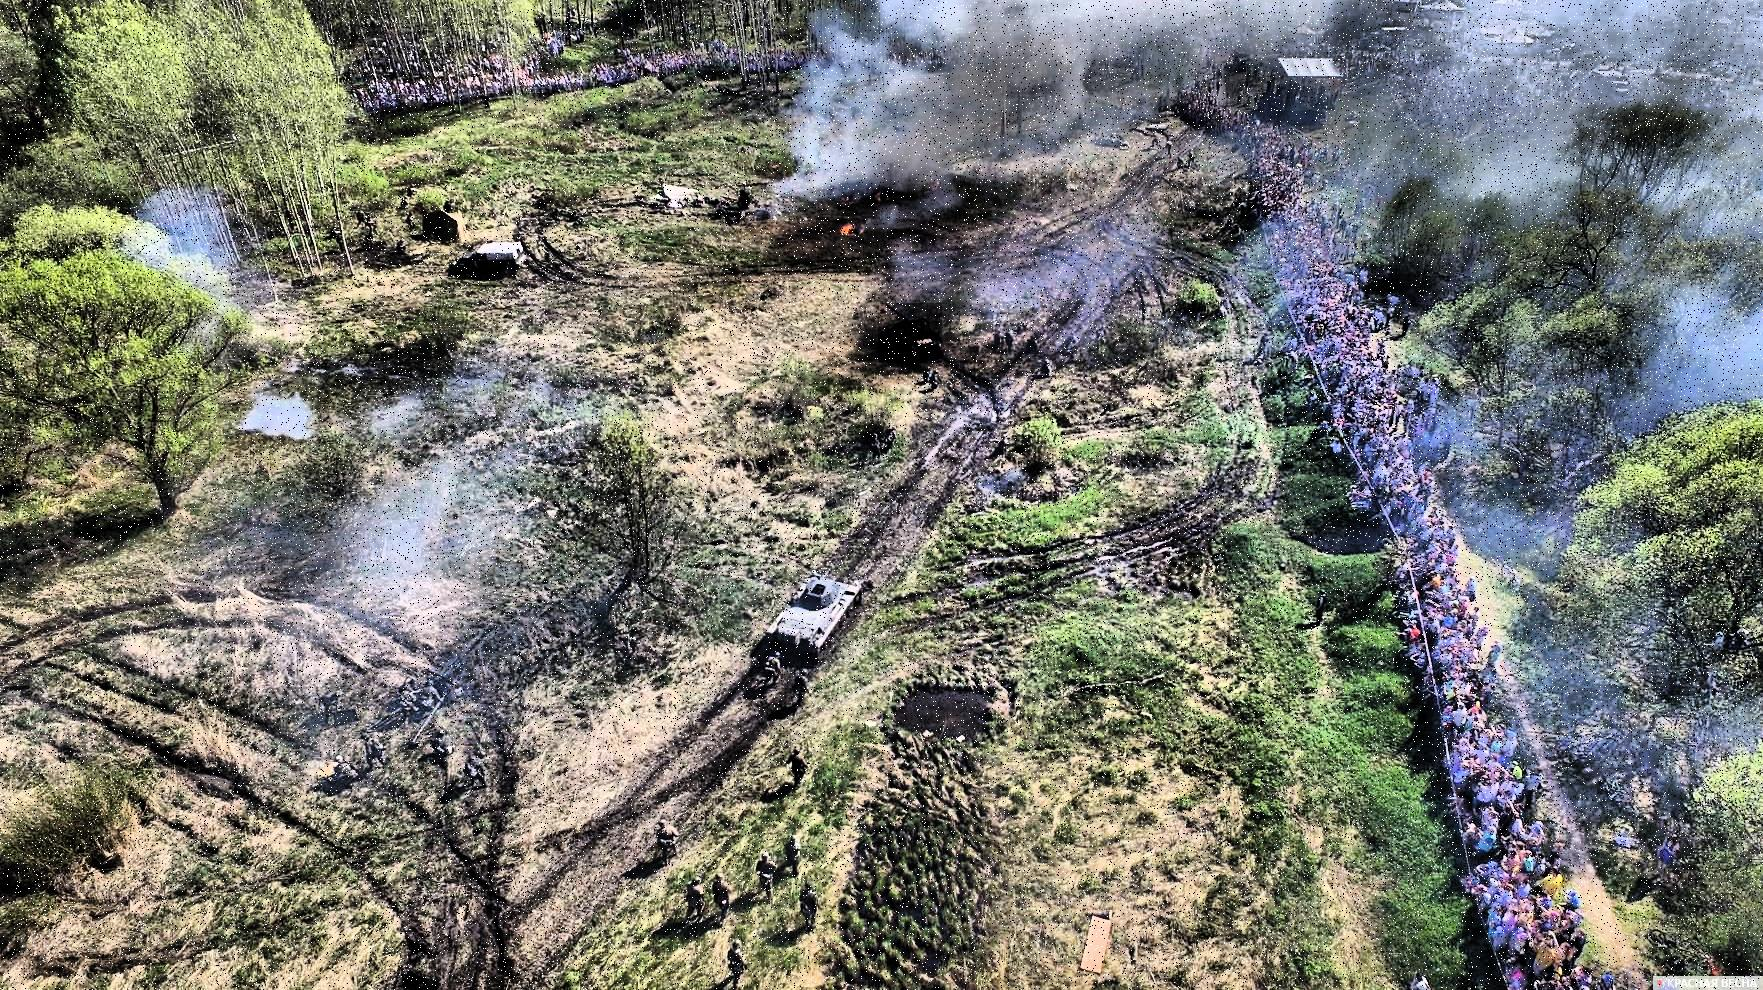military-vehicle: (763, 570, 863, 658), (878, 304, 942, 363)
